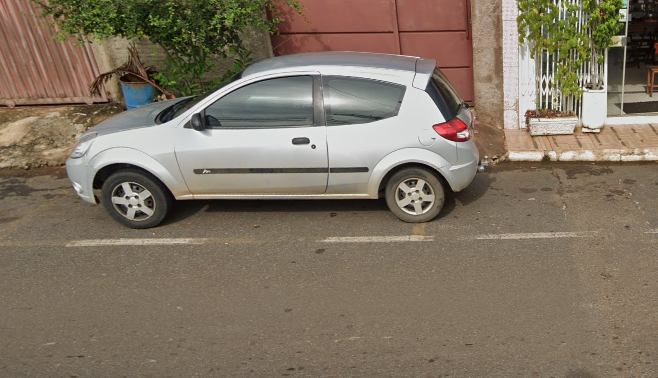car: (64, 50, 481, 227)
